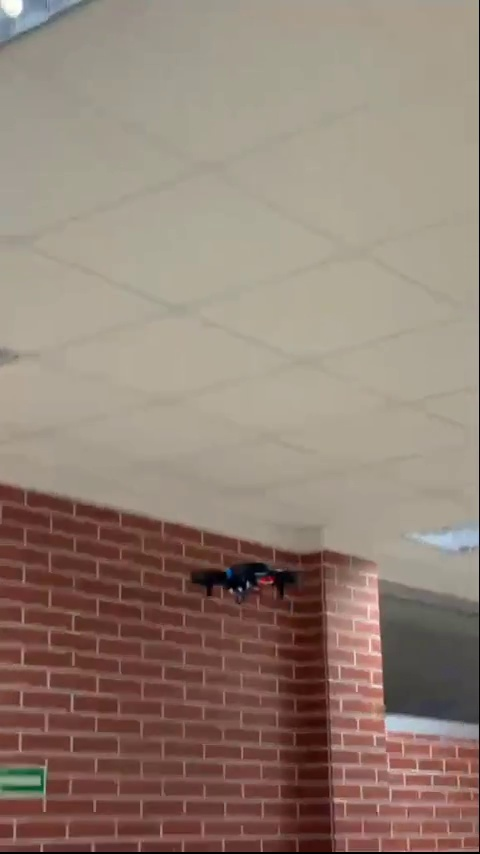drone: (188, 558, 297, 605)
